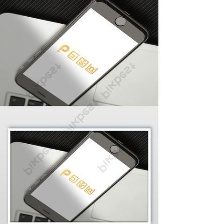phone: (12, 0, 153, 111), (21, 128, 141, 223)
